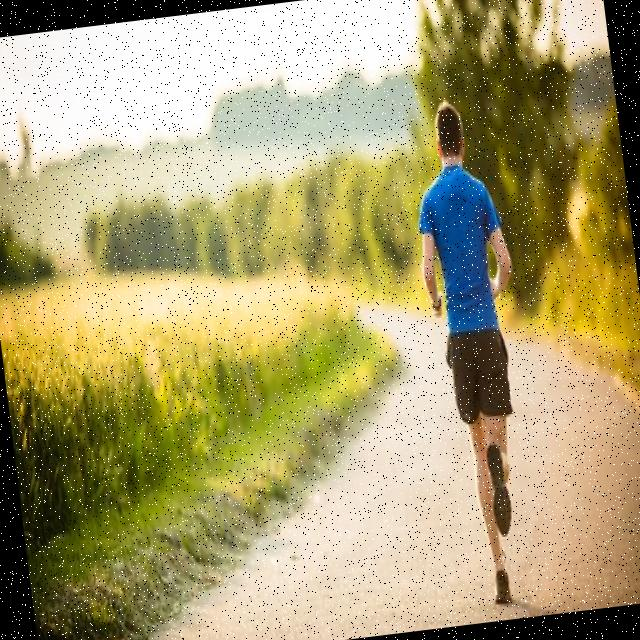Person: (401, 94, 553, 608)
